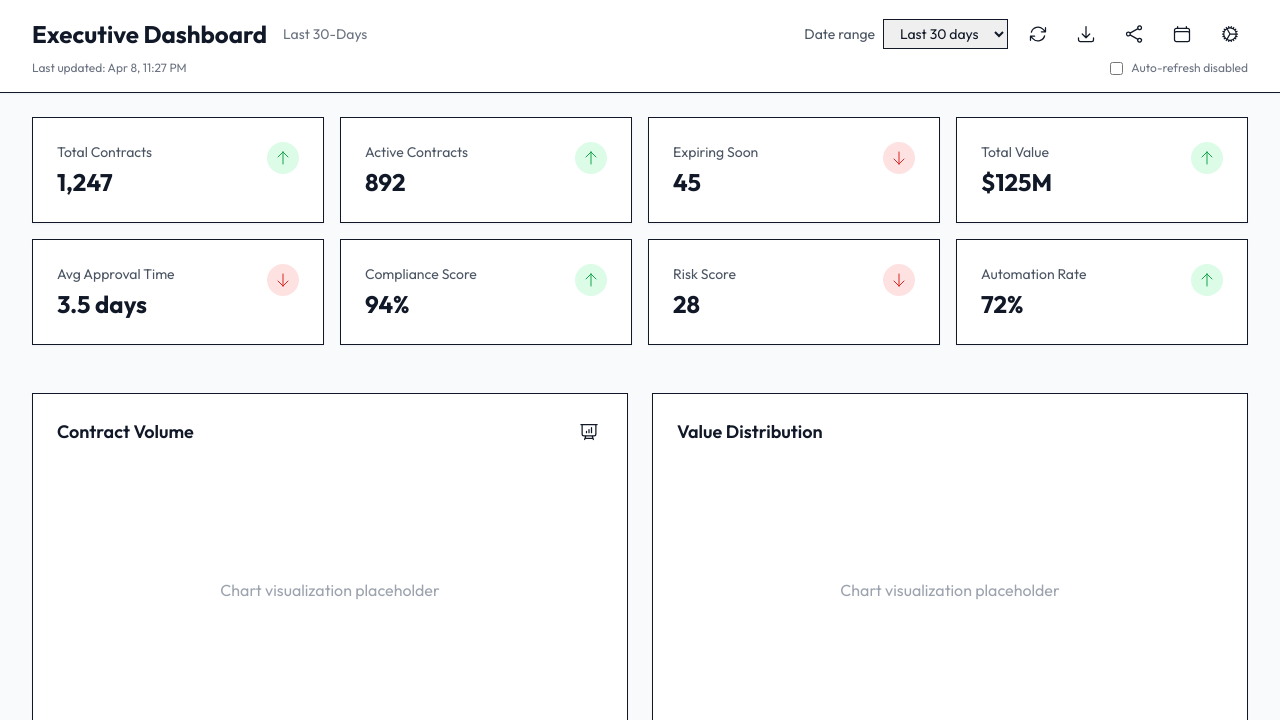
Test: ExecutiveDashboard › Dashboard Customization › should open customization panel
What coordinates should you click on to do the following:
click the button named "customize"
I would click on:
 (1230, 34)
Its box is left=1212, top=16, right=1248, bottom=52.
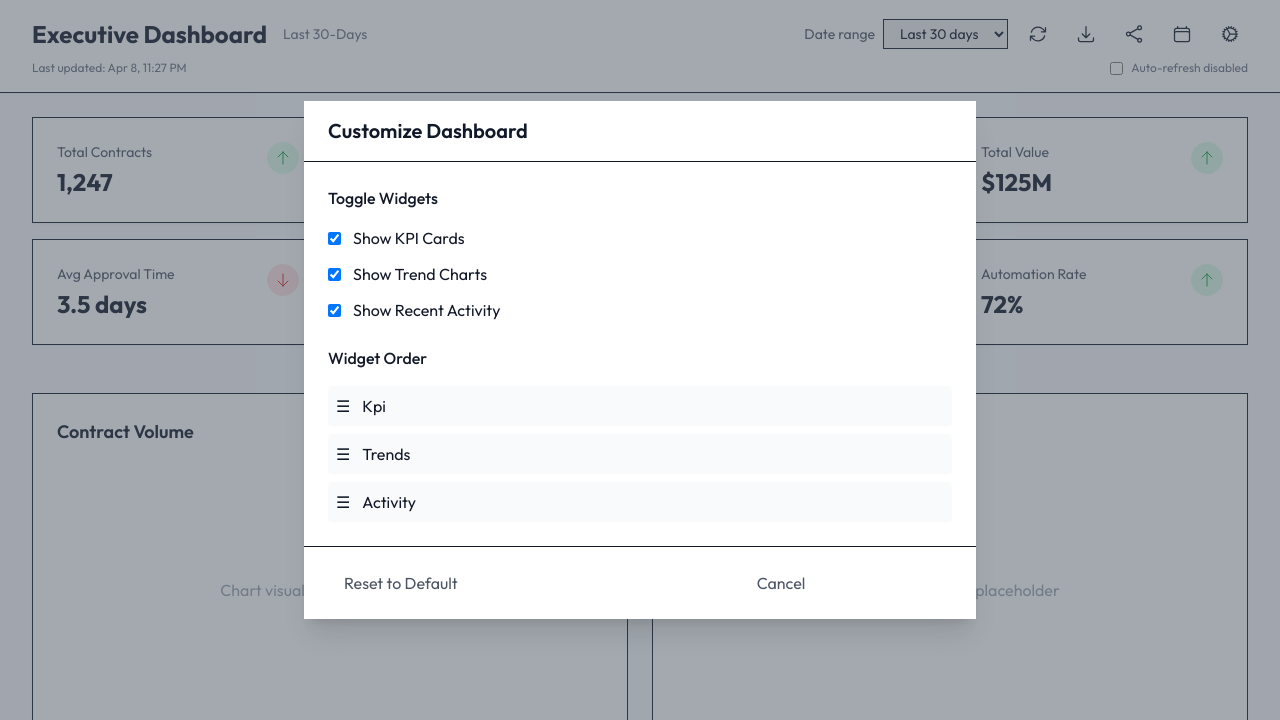
Expected: the element with test id "customization-panel" is shown
